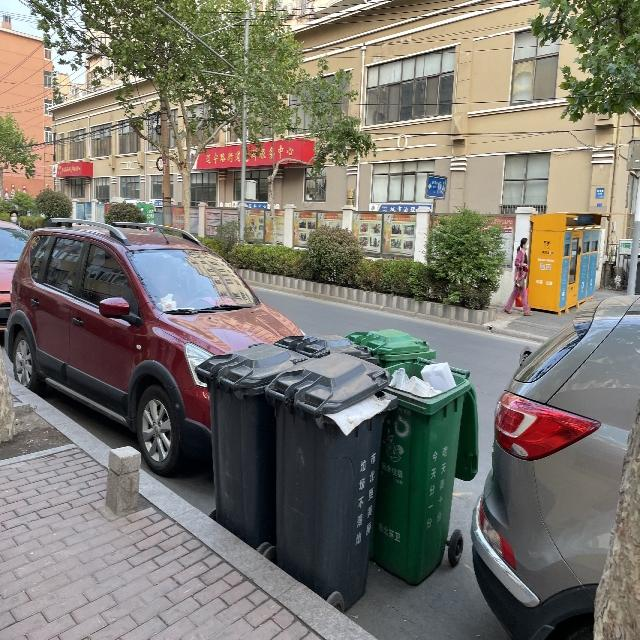garbage_bin: (194, 342, 313, 550)
overflow: (264, 350, 397, 608), (370, 355, 477, 584)
